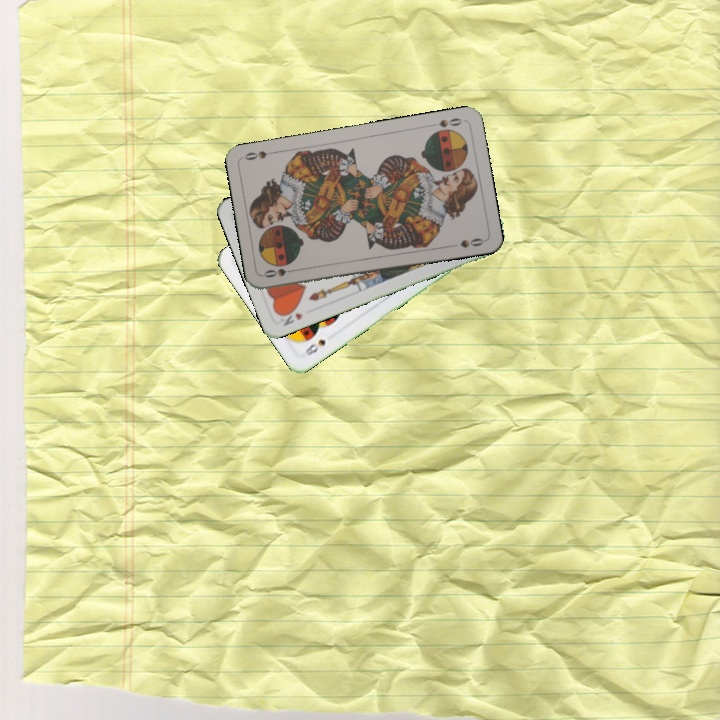HK: (275, 305, 306, 329)
S8: (302, 335, 328, 360)
SO: (260, 264, 300, 280), (426, 114, 464, 130)
